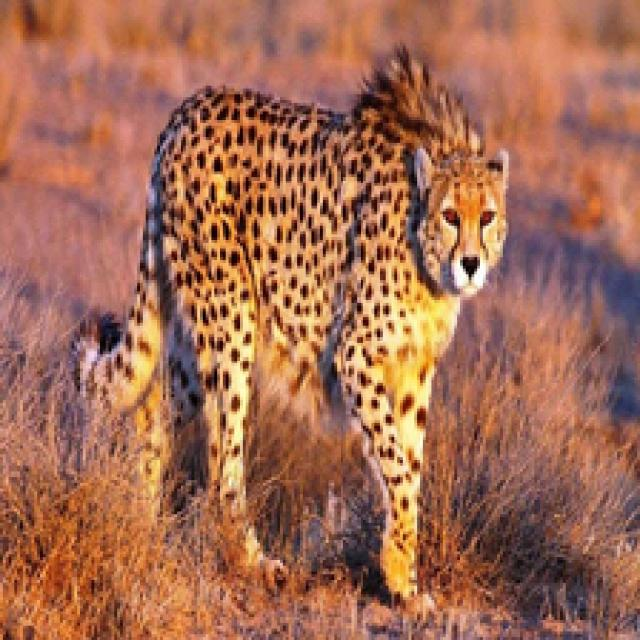cheetah: (62, 34, 519, 615)
